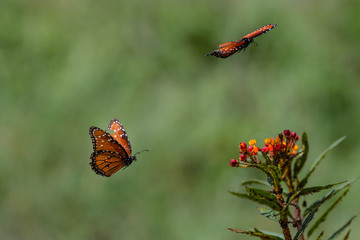insect: (89, 117, 147, 179), (204, 24, 277, 59)
